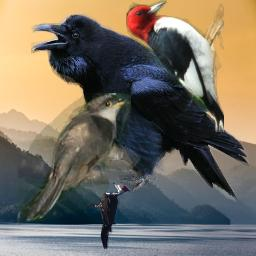Crow: (31, 13, 249, 202)
Cuckoo: (18, 93, 131, 225)
Woodpecker: (126, 0, 224, 132), (86, 182, 131, 250)
